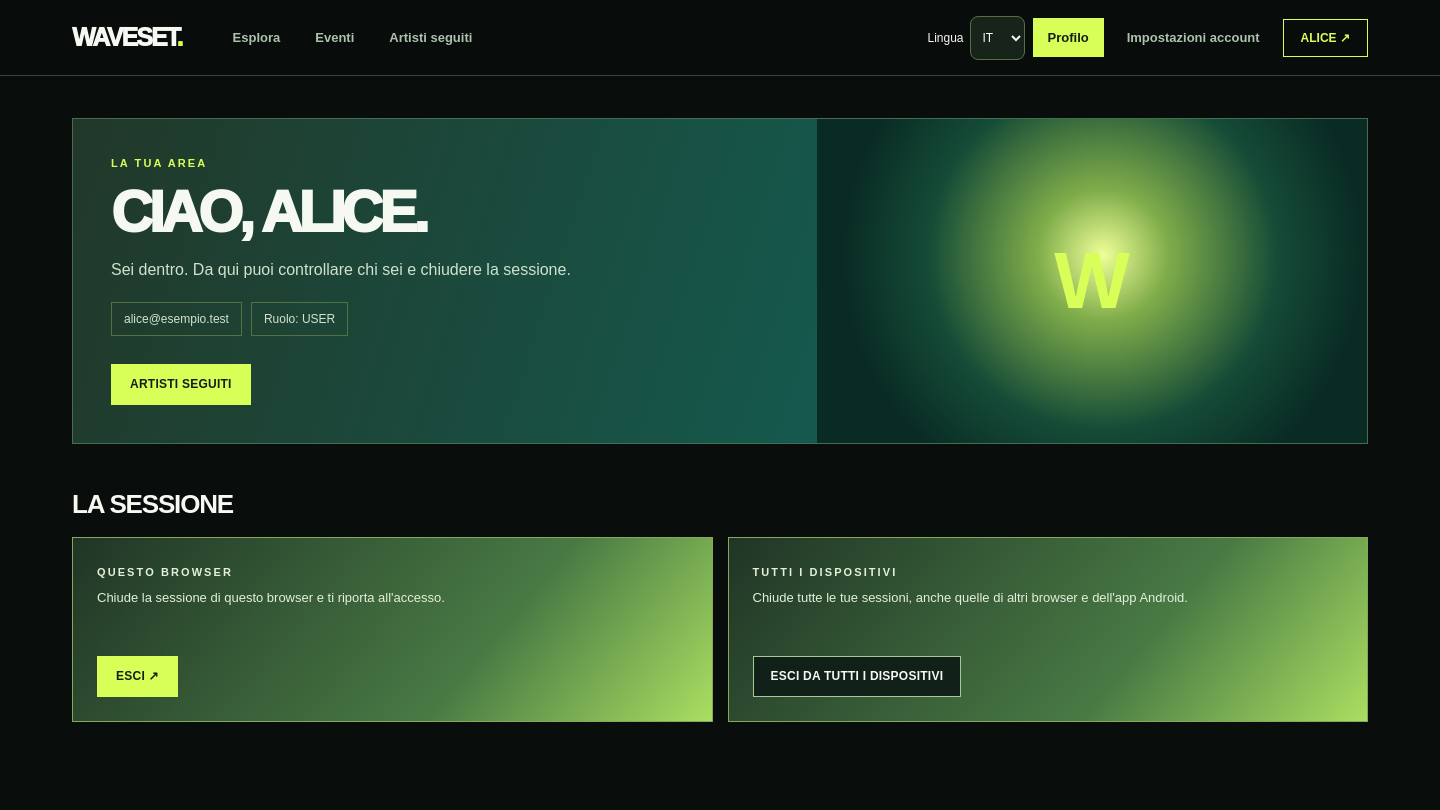
uscita: POST /api/auth/logout › 401: la sessione non c'era più, si torna all'accesso con un avviso
Expected: the heading "Ciao, Alice." is shown, 111,180 -> 425,244
Click the button "Esci ↗" at (137, 677), box 97,656 -> 178,697
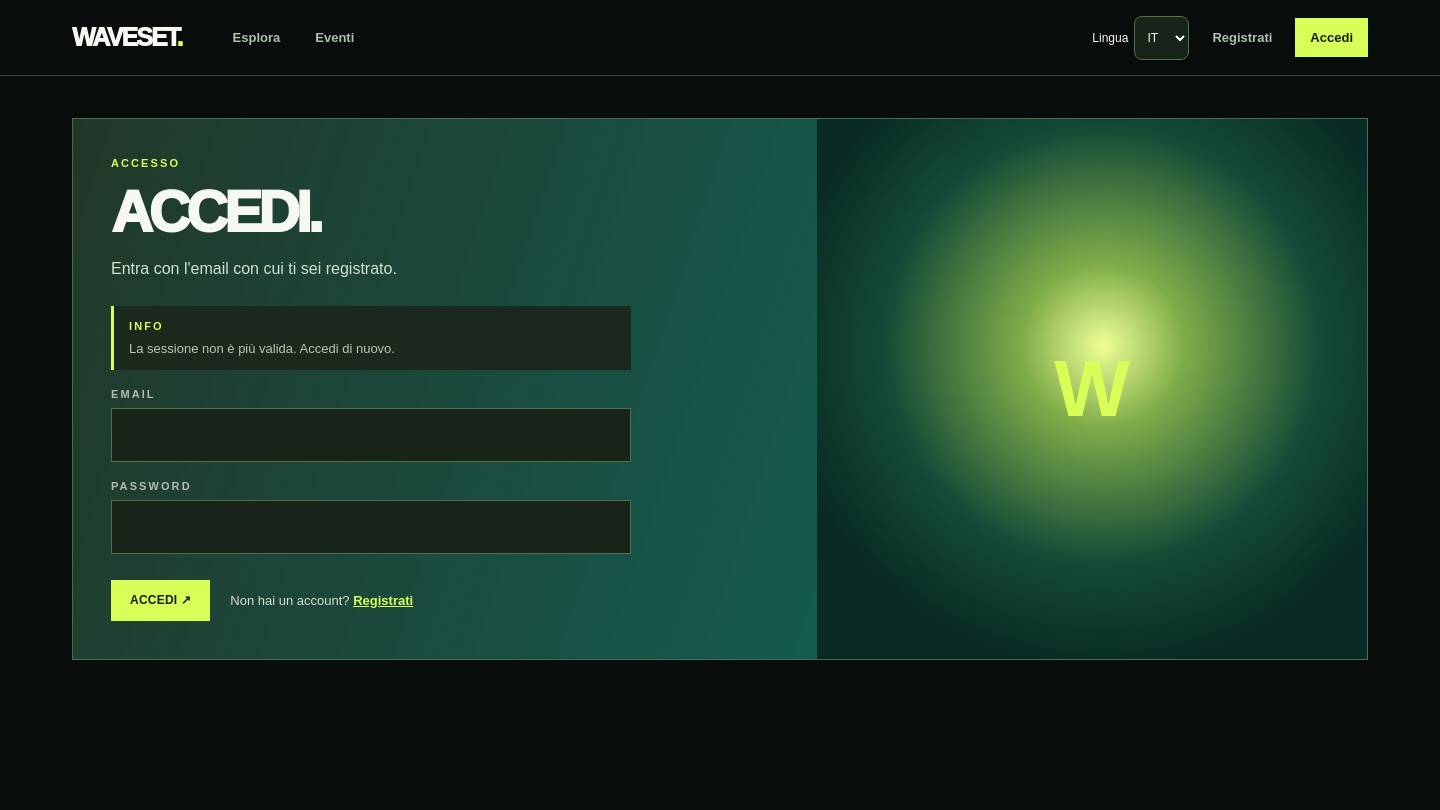
Expected: the heading "Accedi." is shown, 111,180 -> 320,244
Expected: the message shows "La sessione non è più valida", 129,341 -> 395,356
